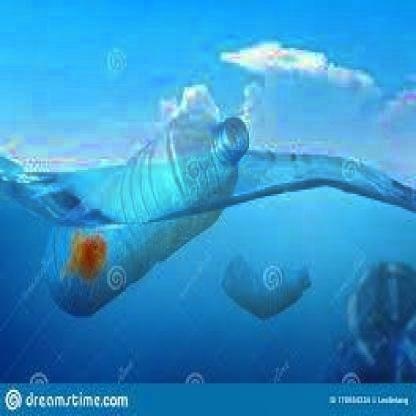pbottle: (35, 104, 248, 326), (227, 250, 315, 326)
